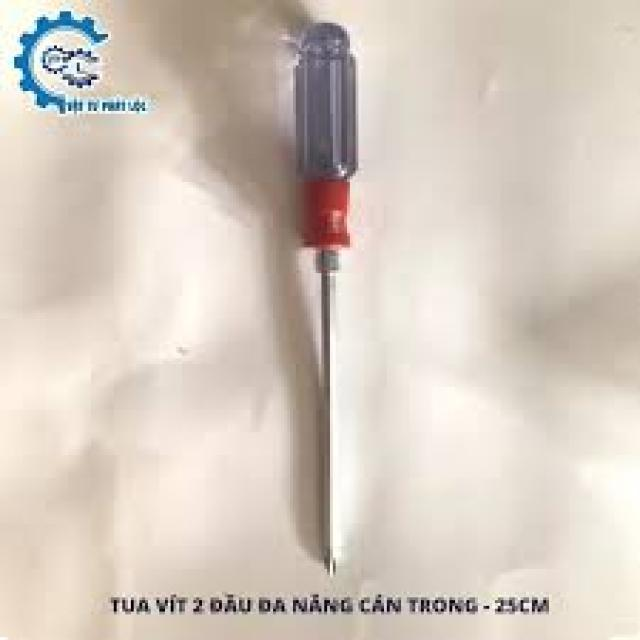screwdriver: (291, 21, 360, 593)
